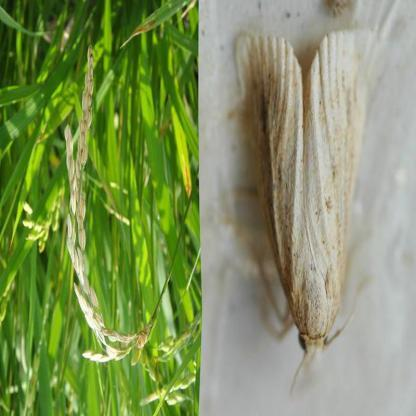stem-borer: (235, 33, 372, 370)
